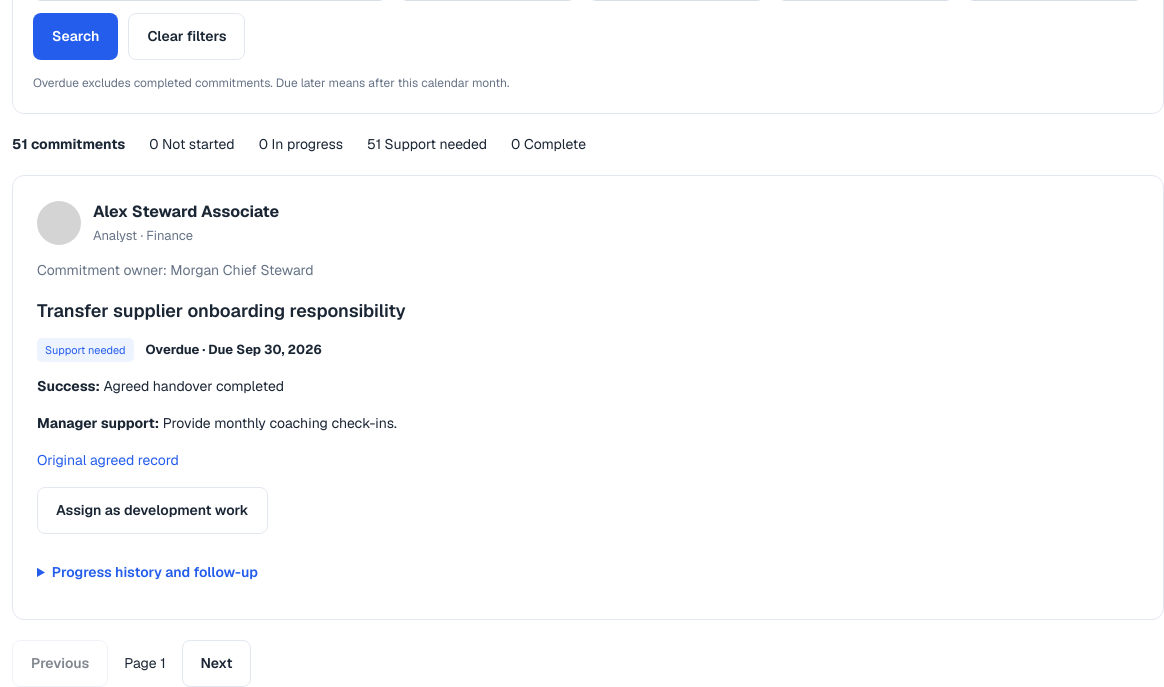
Test case: keeps Next and Previous and uses all-page filtered summary counts
The width and height of the screenshot is (1164, 687).
(page scrolled)
Check: the text "51 commitments" is shown, box top-left (12, 134), bottom-right (125, 155)
Click the button "Next". click: [216, 664]
box: top-left (182, 640), bottom-right (251, 686)
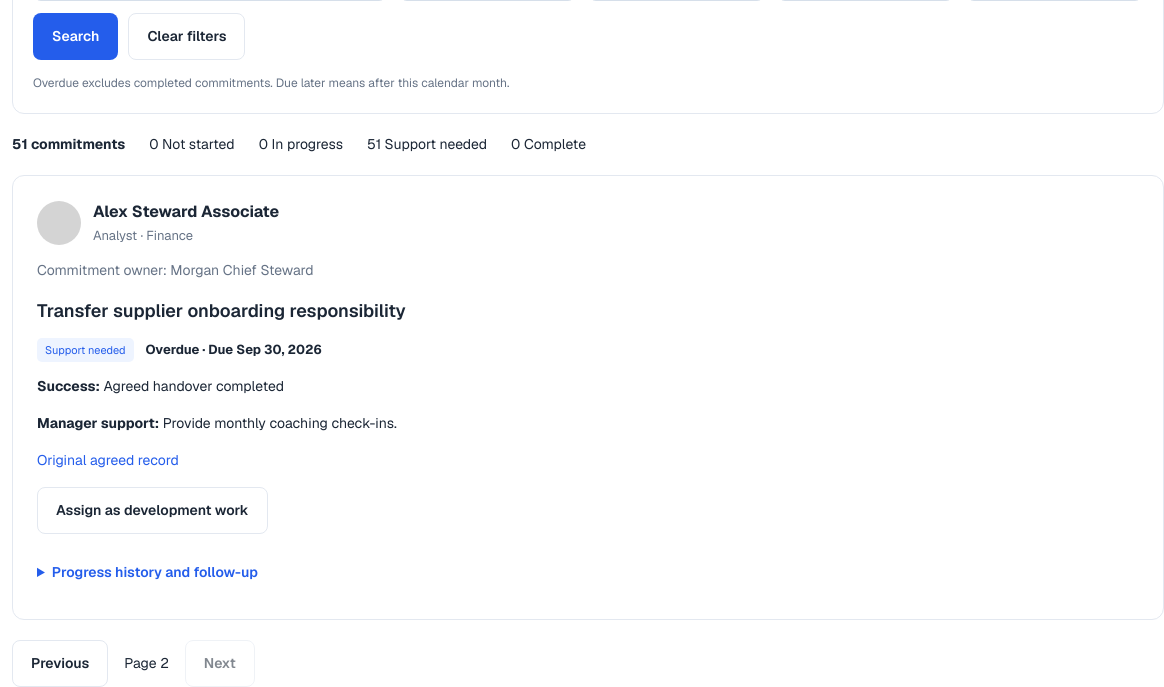
Check: the text "Page 2" is shown, box top-left (124, 653), bottom-right (169, 674)
Click the button "Previous". click: [60, 664]
box: top-left (12, 640), bottom-right (108, 686)
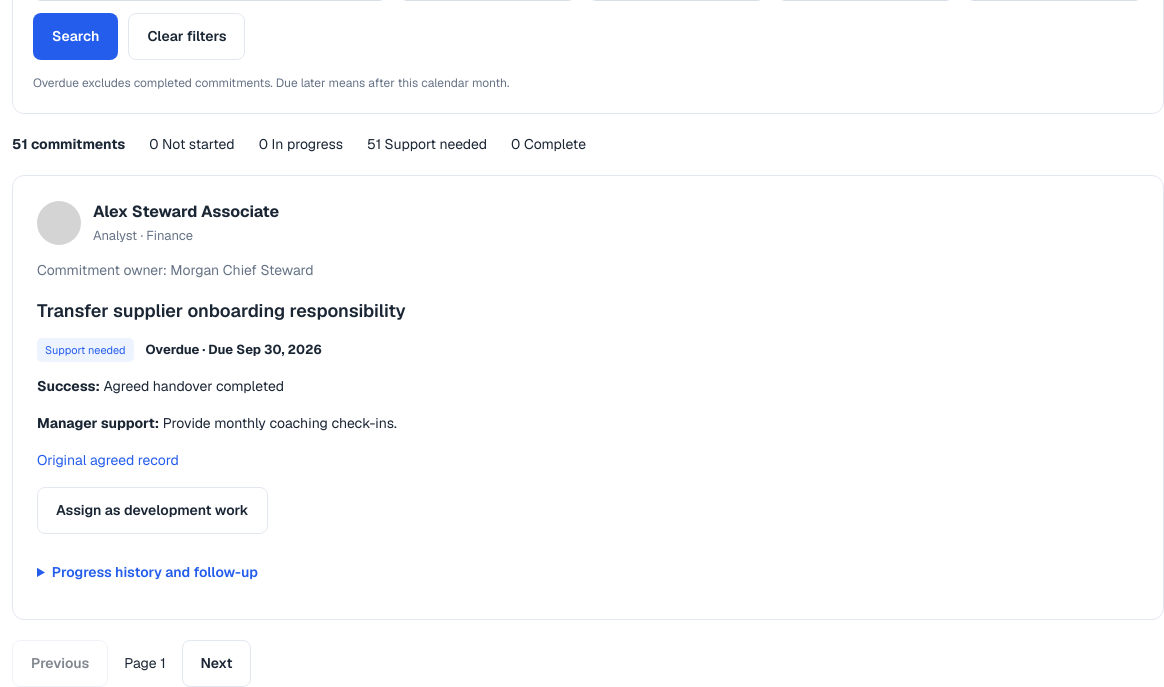
Check: the text "Page 1" is shown, box top-left (124, 653), bottom-right (166, 674)
